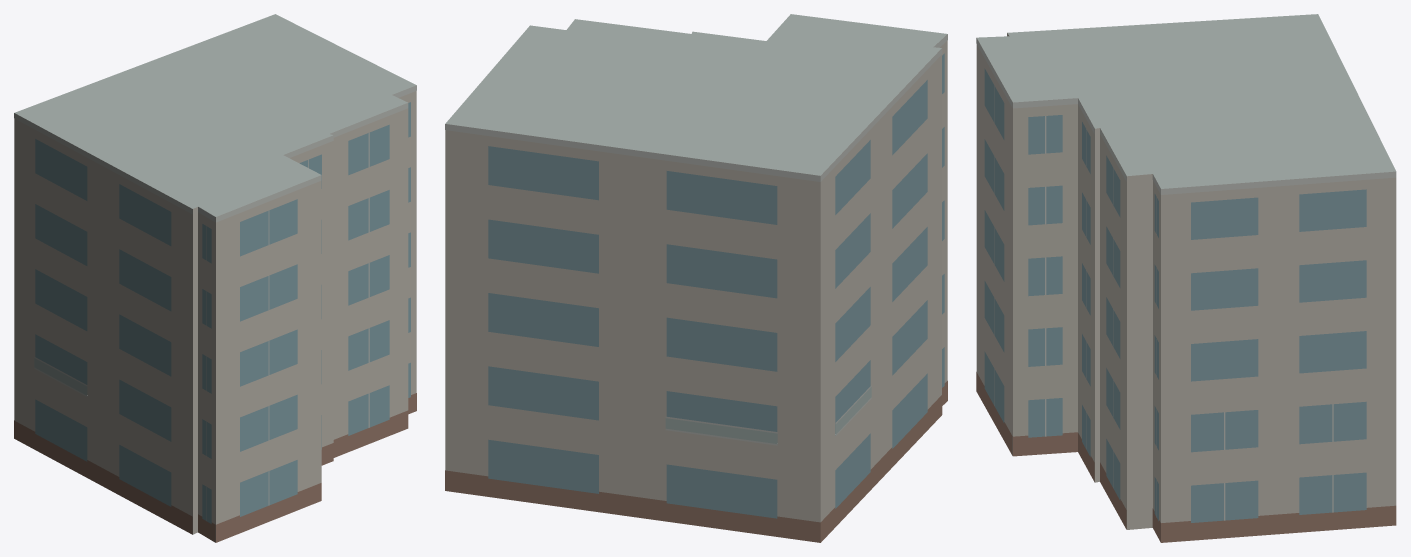
File: survey-upis-32770324.glb
The picture shows the model from 3 angles, left to right: view 1: azimuth 30°, elevation 25°; view 2: azimuth 150°, elevation 25°; view 3: azimuth 270°, elevation 25°; orthographic projection. The views are drawn at different scales.
Visible parts, largest first — view 1: survey-upis-32770324.tmp; view 2: survey-upis-32770324.tmp; view 3: survey-upis-32770324.tmp.
Boxes of the visible parts, box(x1,y1,x2,y2) form: survey-upis-32770324.tmp: box(14, 14, 416, 542); survey-upis-32770324.tmp: box(445, 14, 947, 542); survey-upis-32770324.tmp: box(976, 14, 1396, 542).
Bounding box in the file's own units: 15.29 × 14.4 × 15.5.
